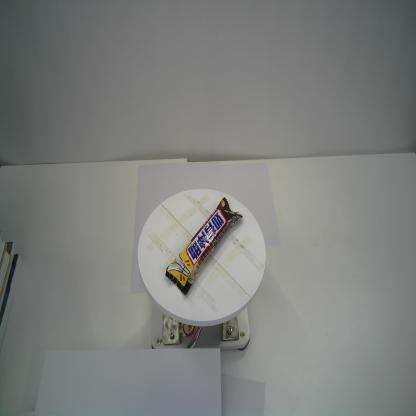Chocolate: (164, 196, 244, 296)
